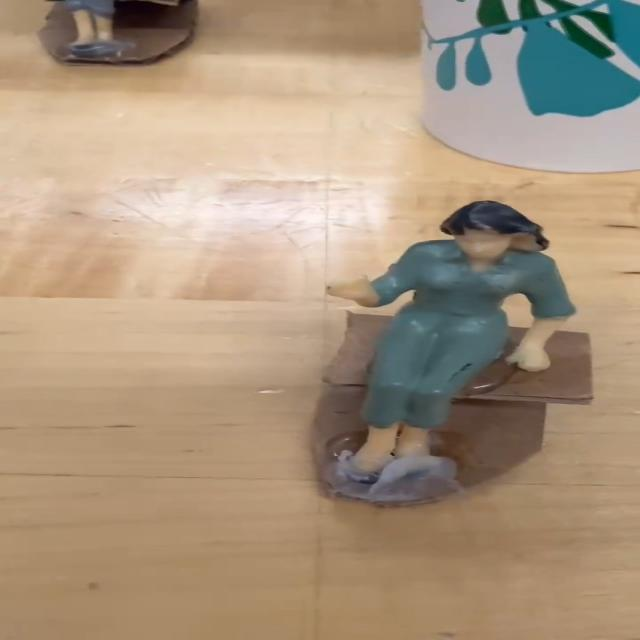Authorized: (270, 193, 598, 499)
